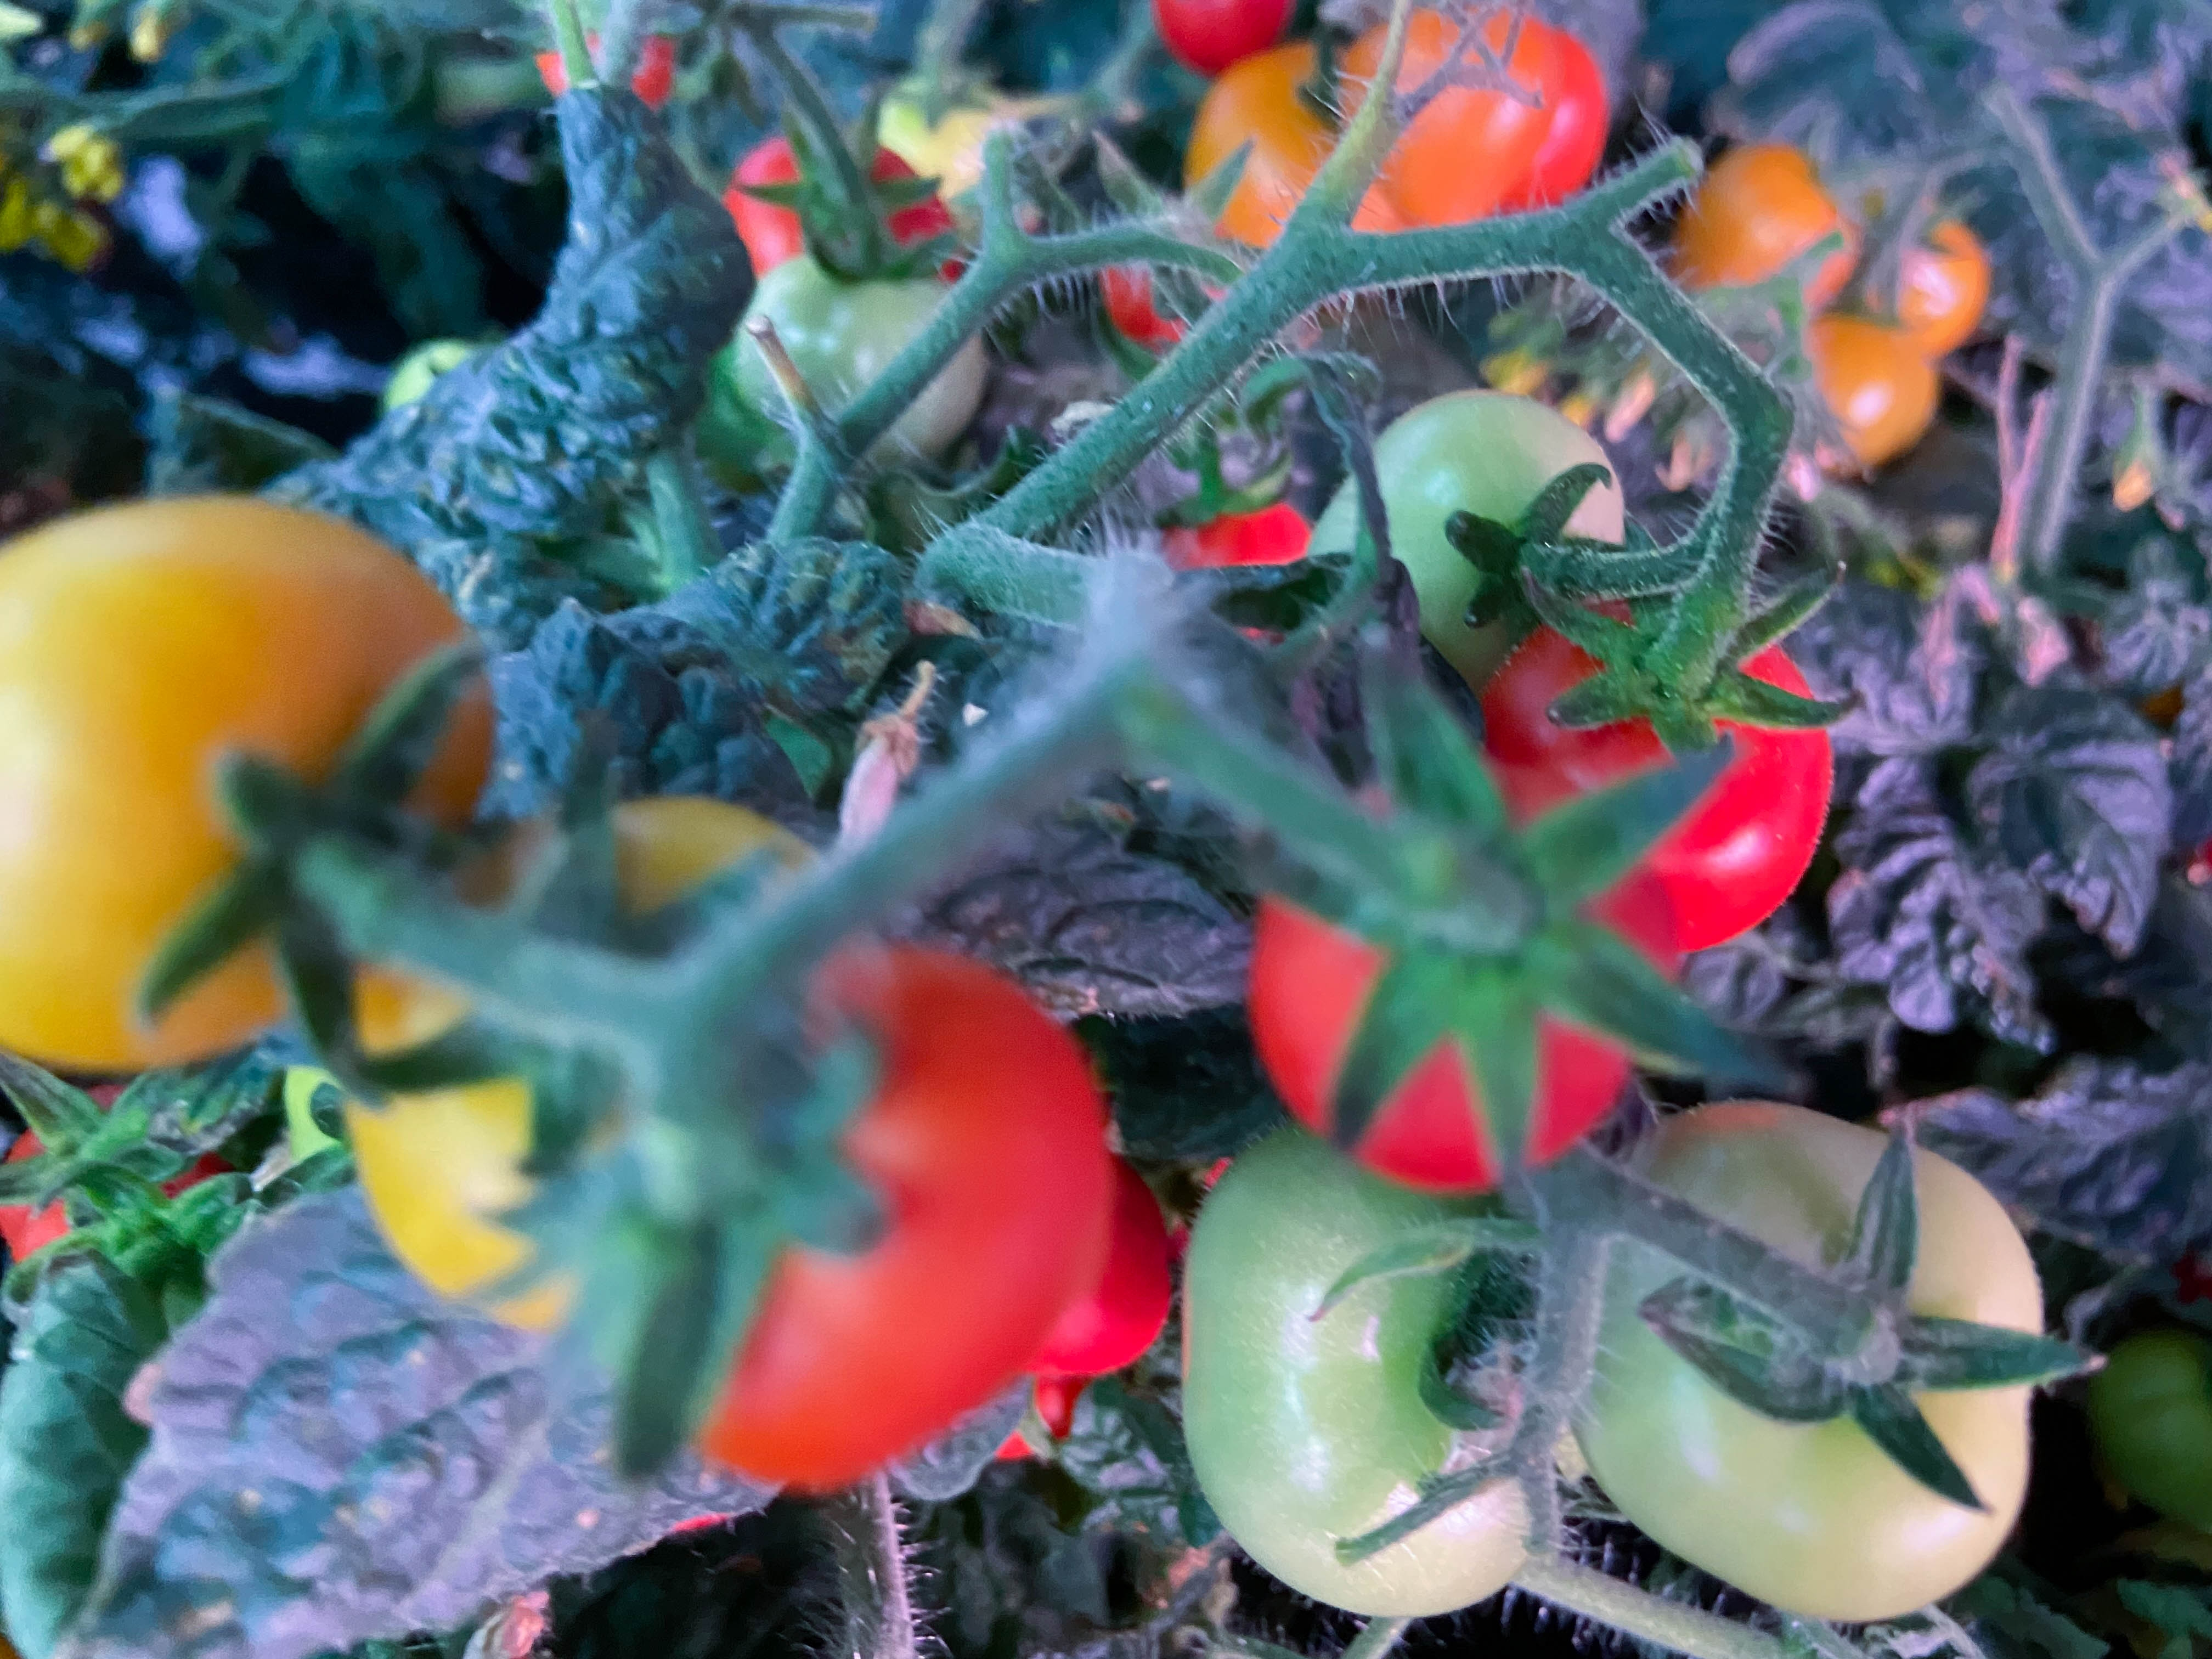green: (1576, 1100, 2050, 1628), (1174, 1127, 1569, 1626), (1310, 385, 1629, 678), (733, 251, 995, 477), (2094, 1321, 2210, 1537), (876, 77, 998, 200), (371, 326, 507, 427)
red: (575, 906, 1122, 1506), (0, 491, 484, 1066), (347, 798, 841, 1310), (1244, 795, 1662, 1194), (1463, 608, 1831, 967), (1353, 2, 1615, 232), (1184, 45, 1421, 288), (721, 127, 953, 282), (1663, 143, 1858, 317), (1771, 317, 1942, 474), (1844, 204, 1989, 361), (2064, 594, 2193, 723), (523, 23, 693, 117), (1155, 0, 1308, 68)
